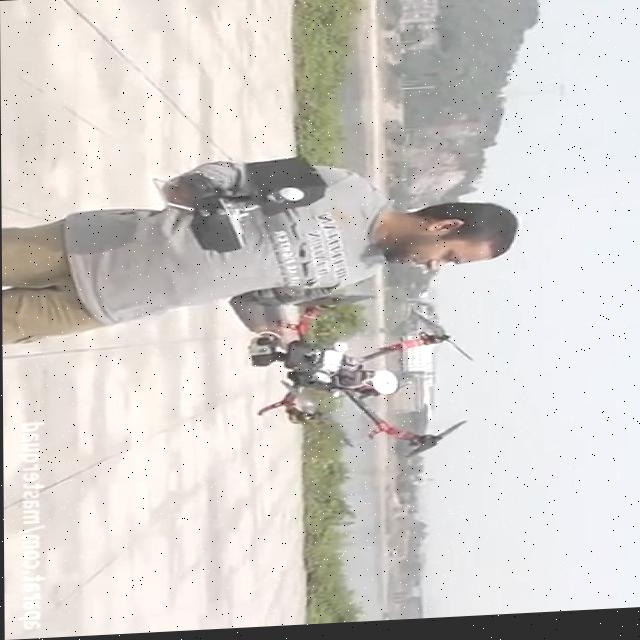drone: (244, 292, 479, 473)
